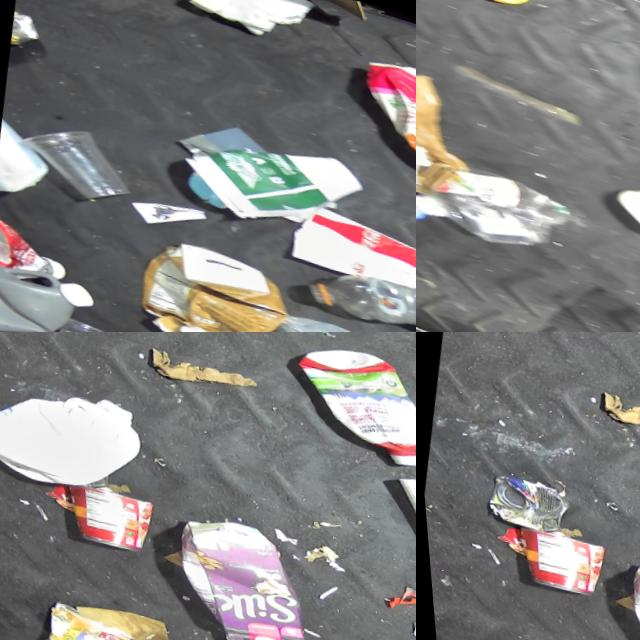can: (54, 476, 153, 555), (506, 520, 605, 599), (478, 466, 572, 538), (32, 596, 131, 640)
milk_jug: (0, 362, 148, 505)
non_white_jug: (152, 501, 318, 640), (117, 225, 297, 332), (279, 332, 416, 465), (345, 44, 416, 186), (0, 256, 97, 332)
plastic_bottle: (293, 241, 416, 332)
